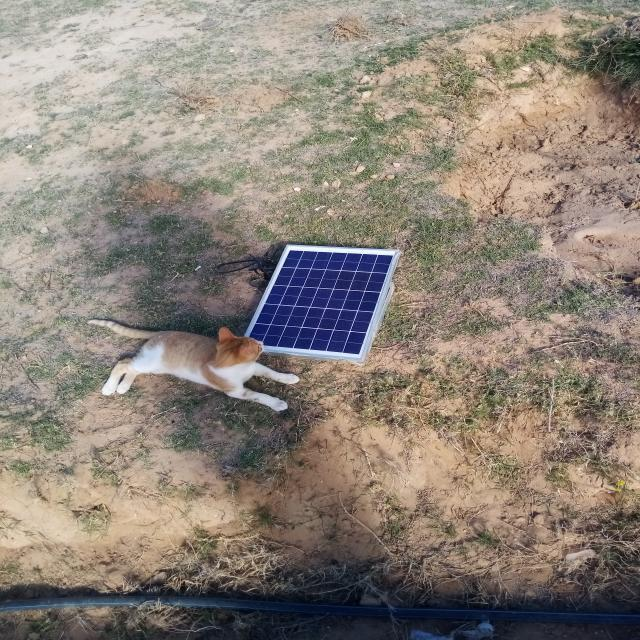no faulty: (242, 247, 398, 358)
